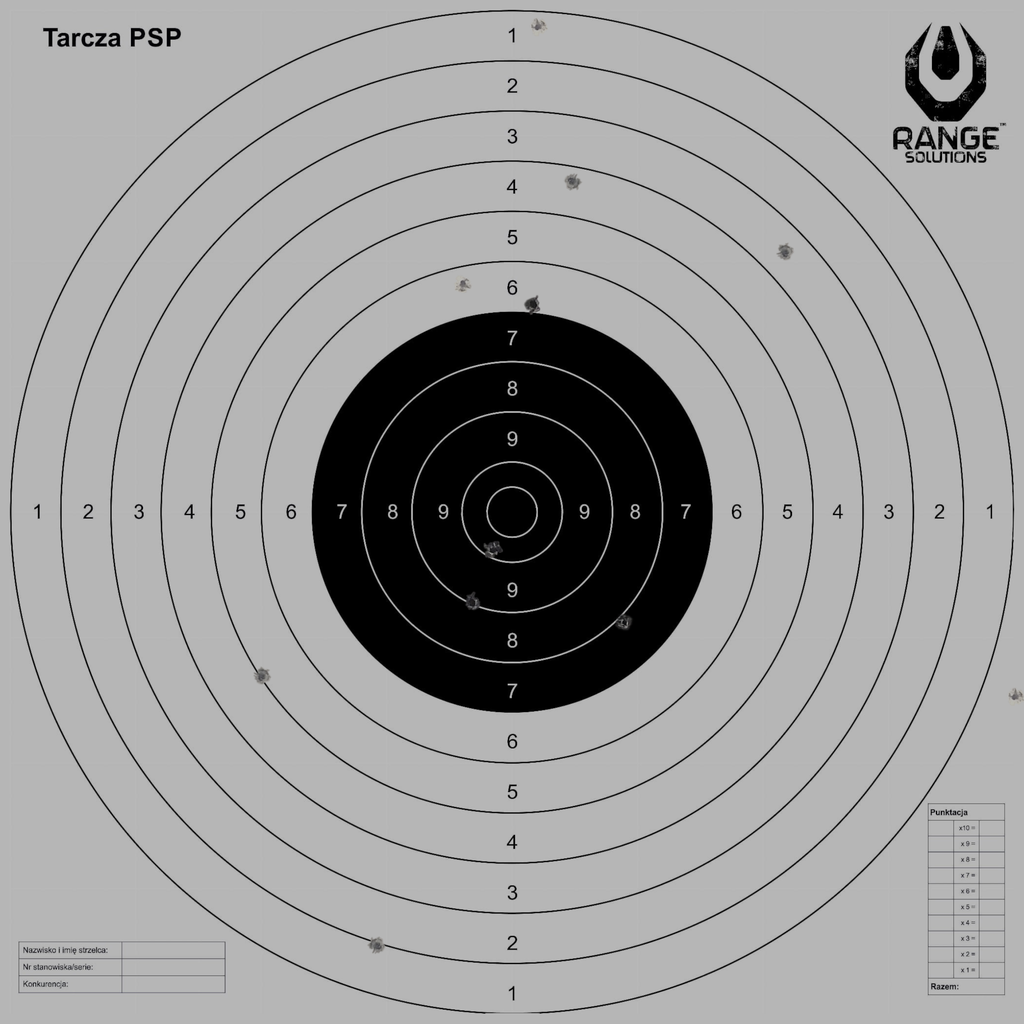0 punktow: (1006, 687, 1024, 706)
1 punkt: (529, 18, 547, 36)
10 punktow: (484, 541, 503, 559)
2 punkty: (368, 937, 386, 955)
3 punkty: (776, 243, 794, 262)
4 punkty: (563, 172, 581, 191)
5 punktow: (253, 667, 271, 686)
6 punktow: (454, 275, 472, 293)
7 punktow: (524, 296, 543, 314)
8 punktow: (615, 614, 634, 632)
9 punktow: (463, 593, 482, 612)
